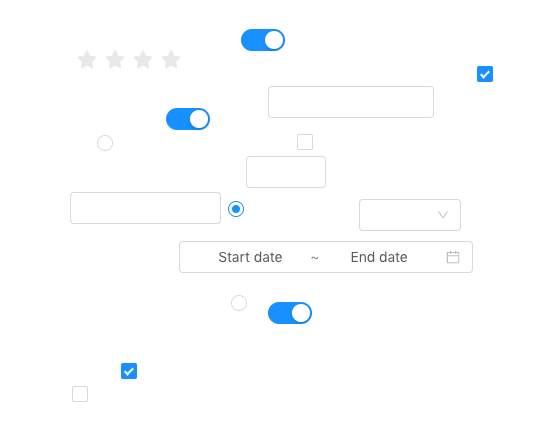Checkbox: (297, 131, 313, 152), (121, 360, 137, 381), (72, 383, 88, 404), (477, 63, 493, 84)
Input: (268, 86, 434, 118), (70, 192, 221, 224), (246, 156, 326, 188)
Radio: (97, 132, 113, 152), (231, 292, 247, 312), (228, 198, 244, 218)
RangePicker: (179, 241, 473, 273)
Rate: (77, 43, 197, 75)
Select: (359, 199, 461, 231)
Switch: (166, 107, 210, 131), (241, 28, 285, 52), (268, 301, 312, 325)
